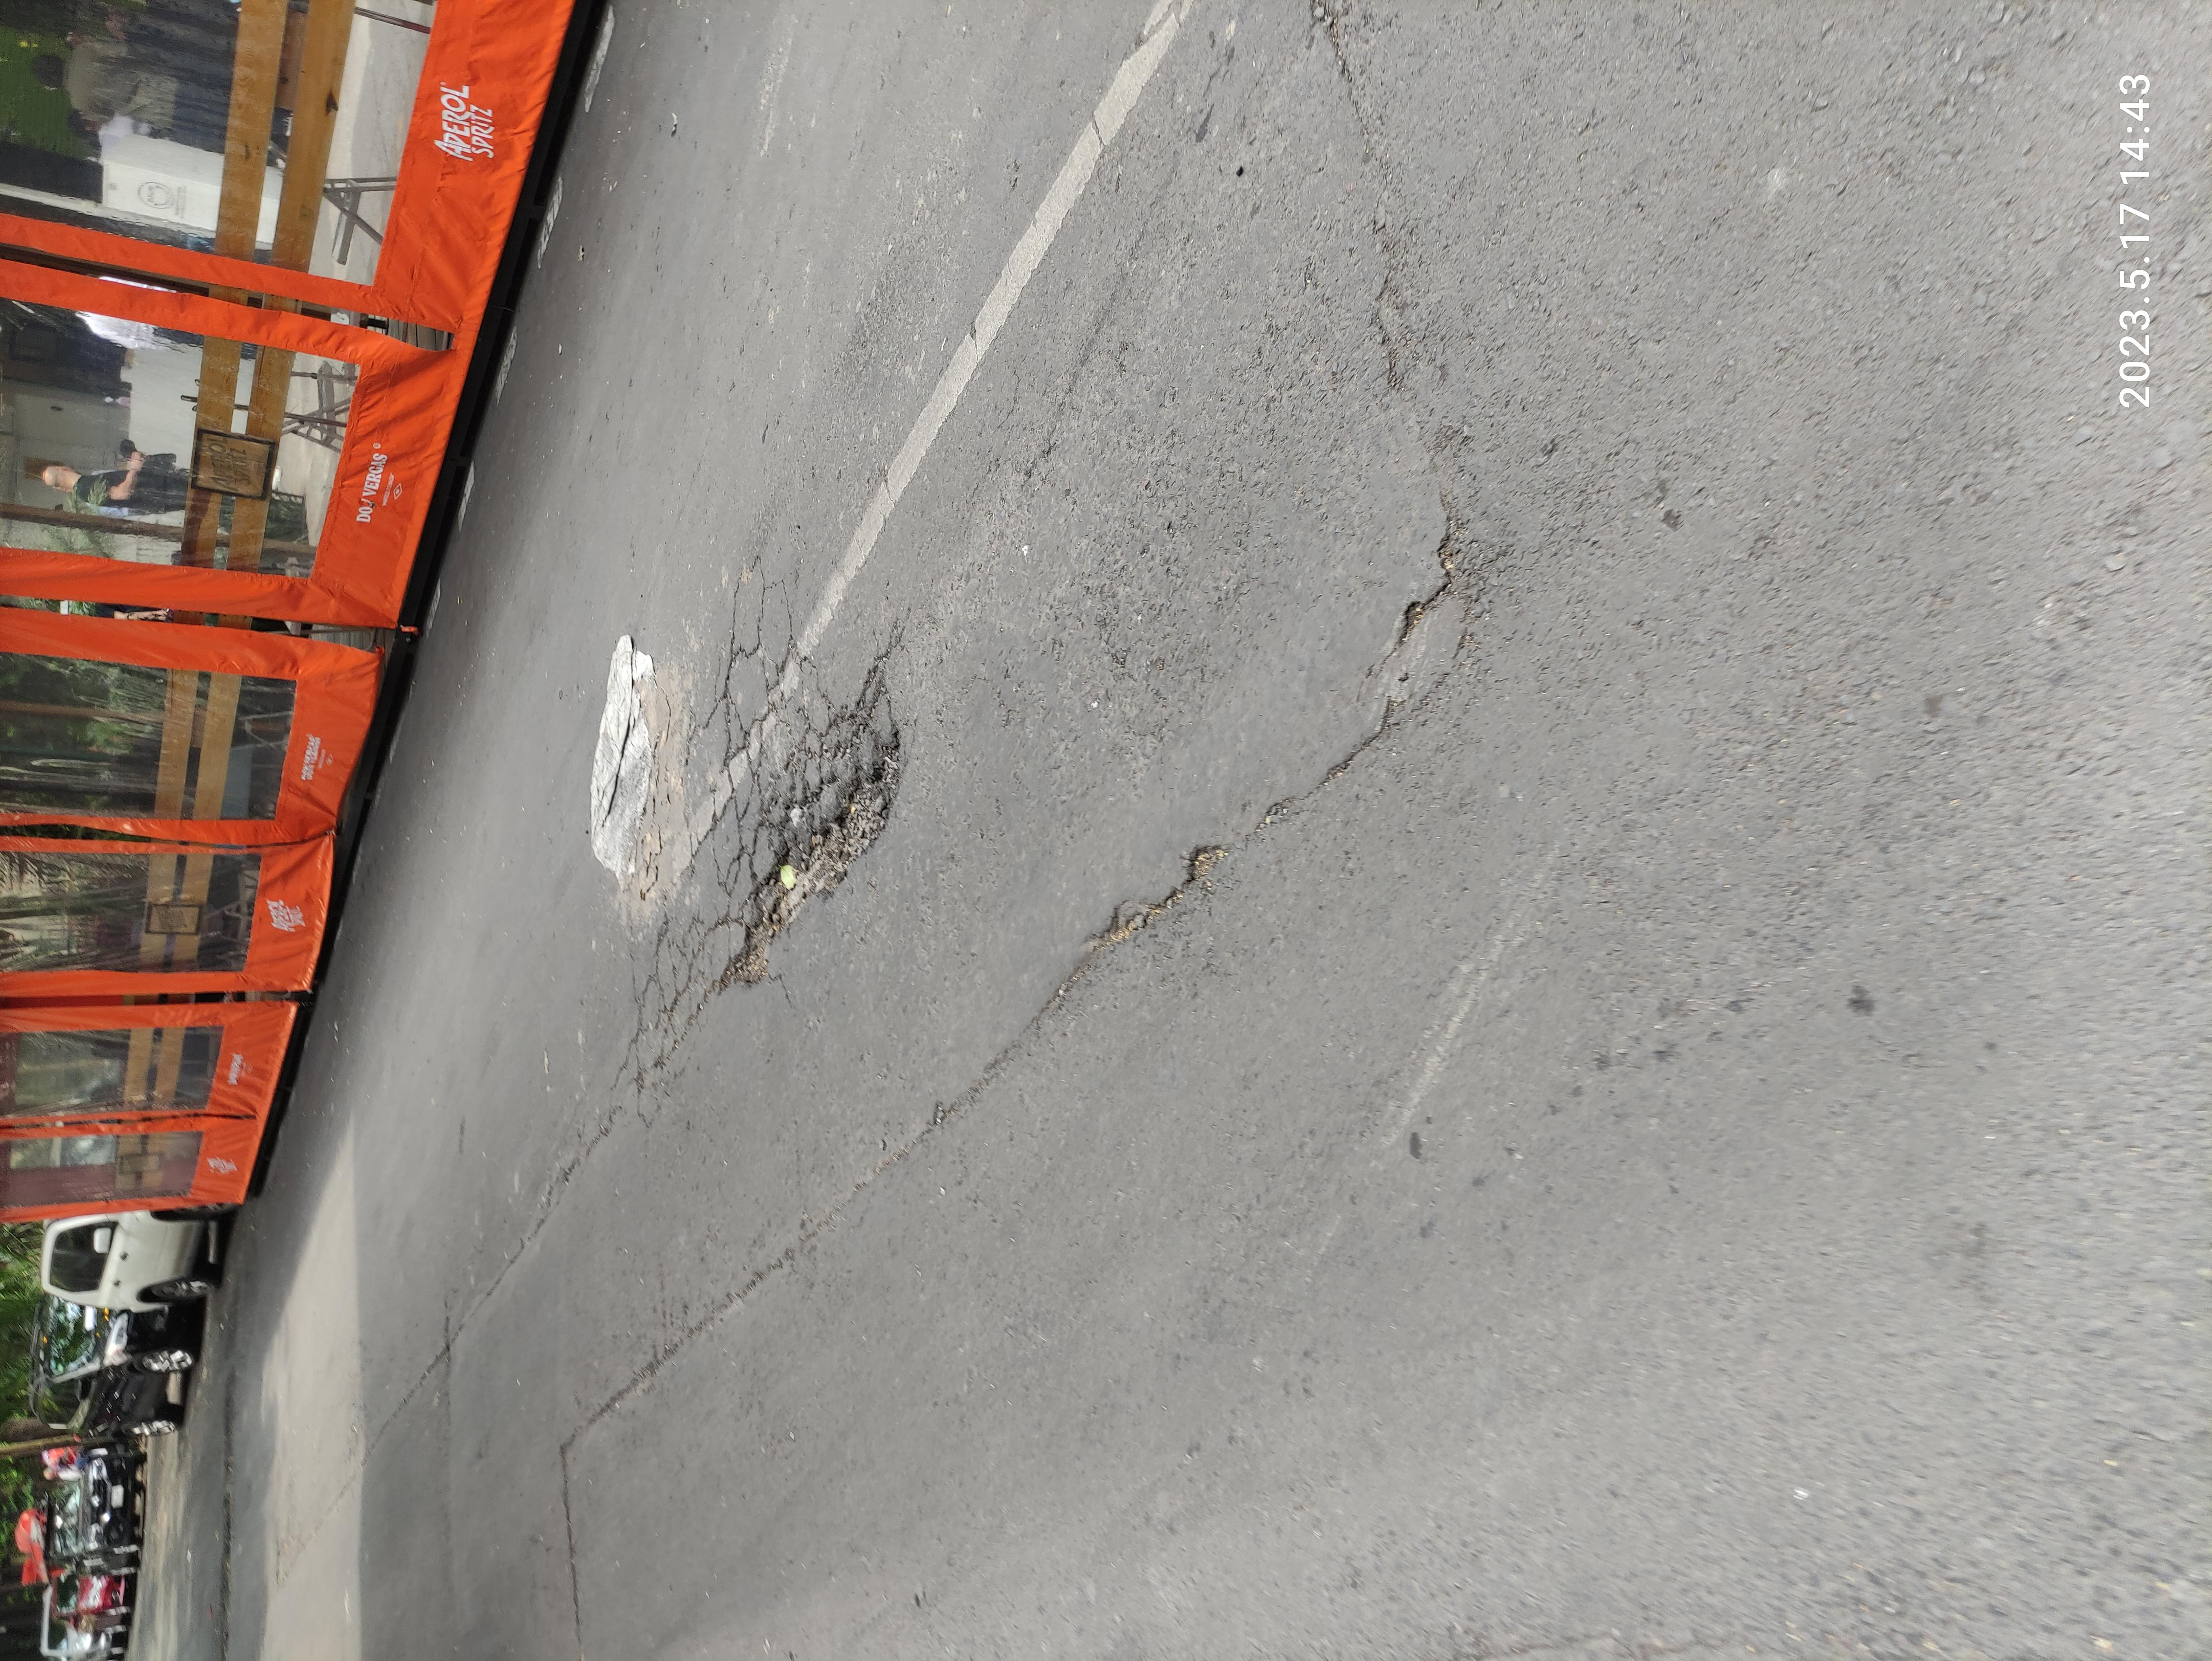alligator-crack: (625, 420, 994, 536), (1026, 502, 1490, 574)
crack: (855, 735, 1706, 1145), (1718, 970, 2212, 1101), (249, 249, 579, 407), (342, 455, 591, 654), (607, 612, 823, 775), (10, 414, 379, 450)
pothole: (891, 541, 1230, 691), (3, 155, 413, 181)
